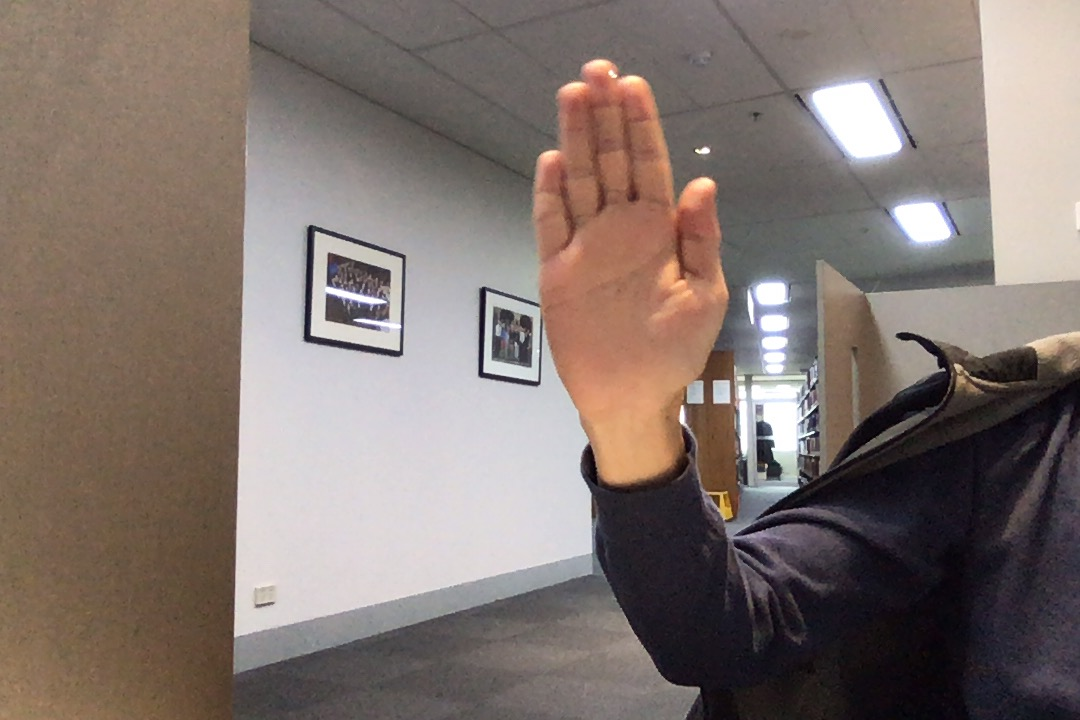palmhand: (517, 50, 742, 421)
